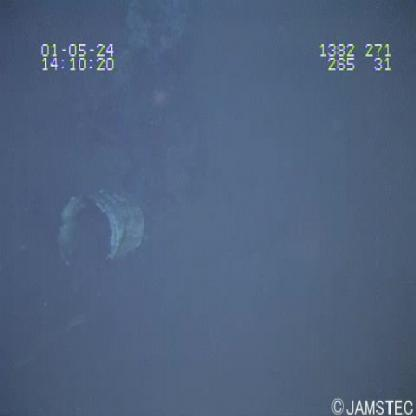Rác: (50, 181, 152, 275)
